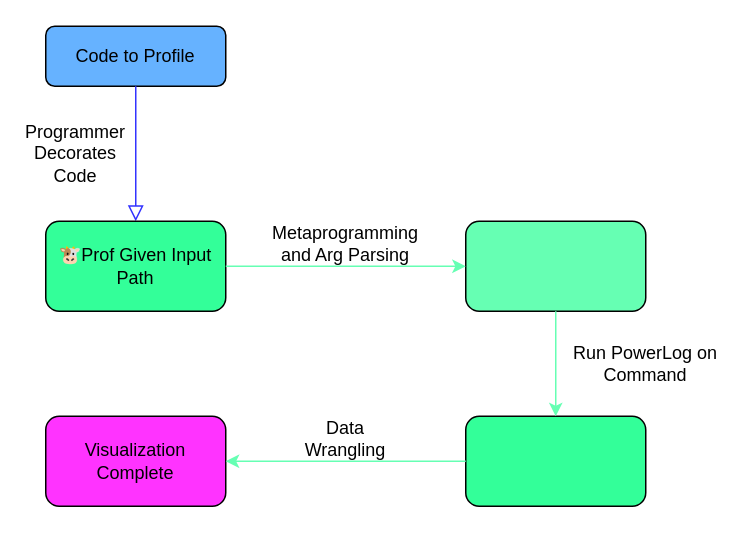
Image size: 747x533. Some labels were removed from this diagram. The centre of each missing label's shape, as x and y in pixels:
"Data Collected" goes at pixel 555 460.
"Input Ready" goes at pixel 555 265.
